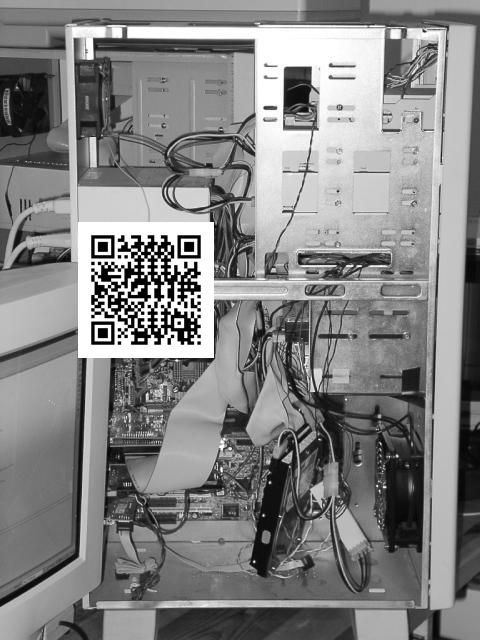qr_code: (79, 221, 213, 357)
